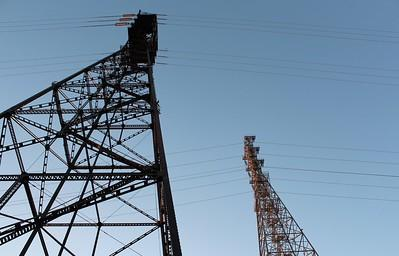power_tower: (0, 7, 176, 256), (235, 129, 321, 256)
